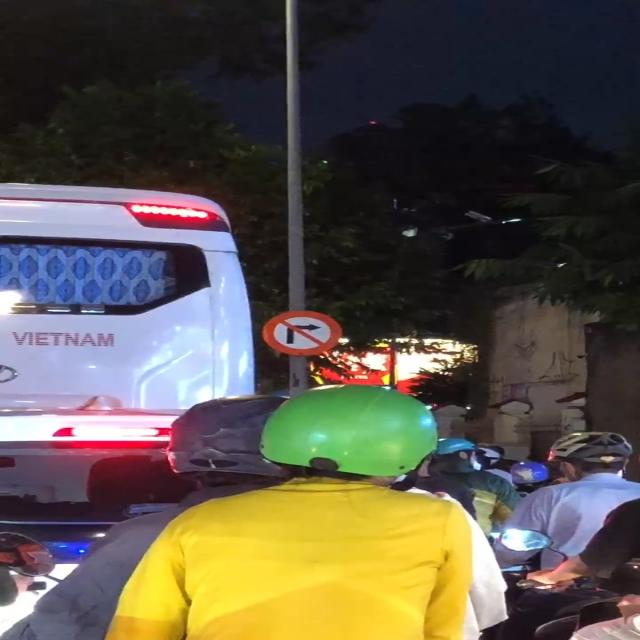Bien bao cam re phai: (259, 307, 349, 360)
